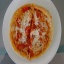pizza: (7, 5, 57, 57)
